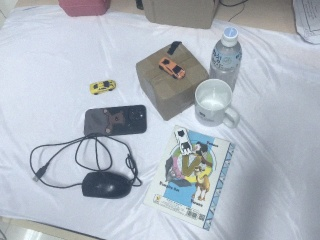book: (140, 123, 237, 233)
bottle: (209, 26, 242, 92)
box: (135, 40, 209, 123), (138, 1, 219, 32)
cup: (193, 78, 242, 129)
mouse: (81, 169, 131, 201)
phone: (83, 104, 148, 138)
toy_car: (156, 57, 188, 79), (173, 129, 196, 156), (89, 80, 117, 95)
